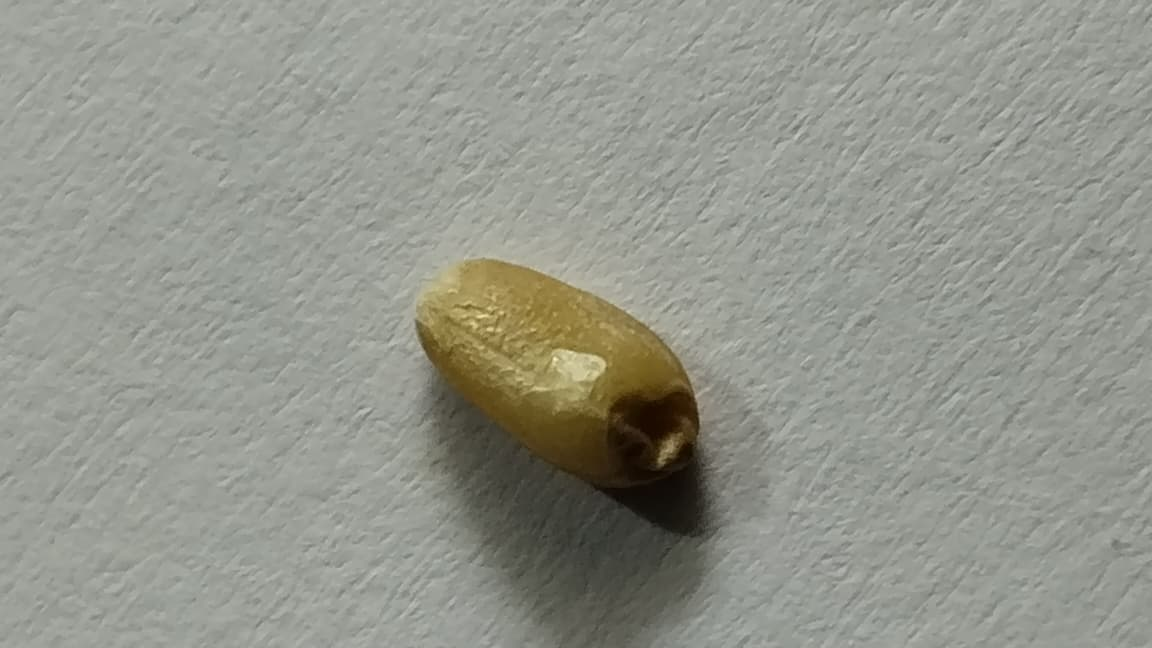healthy: (417, 259, 698, 485)
